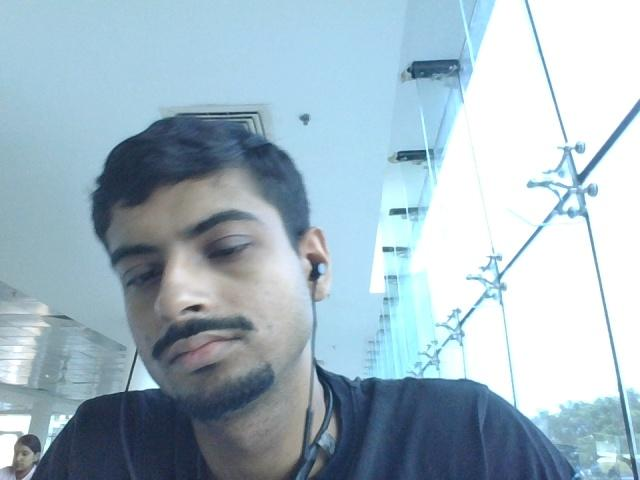nervous: (79, 115, 347, 411)
